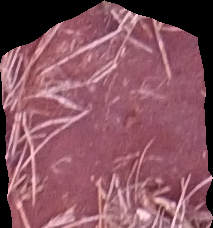soil: (2, 2, 213, 227)
